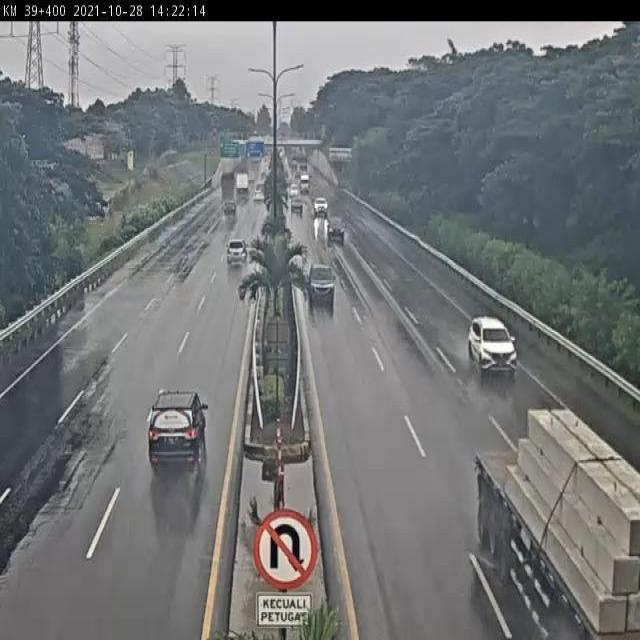car: (146, 389, 209, 472), (465, 318, 519, 378), (308, 260, 336, 300), (226, 235, 250, 273)
truck-xl-: (475, 405, 640, 640)
